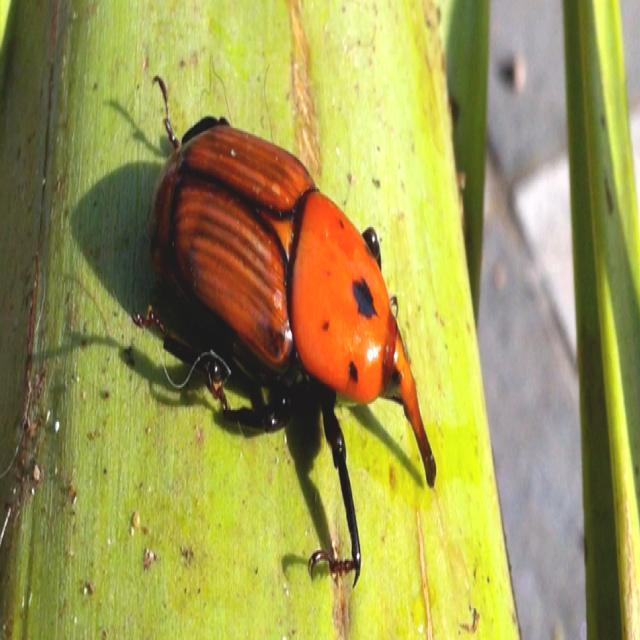Red-palm-weevil: (143, 114, 439, 495)
